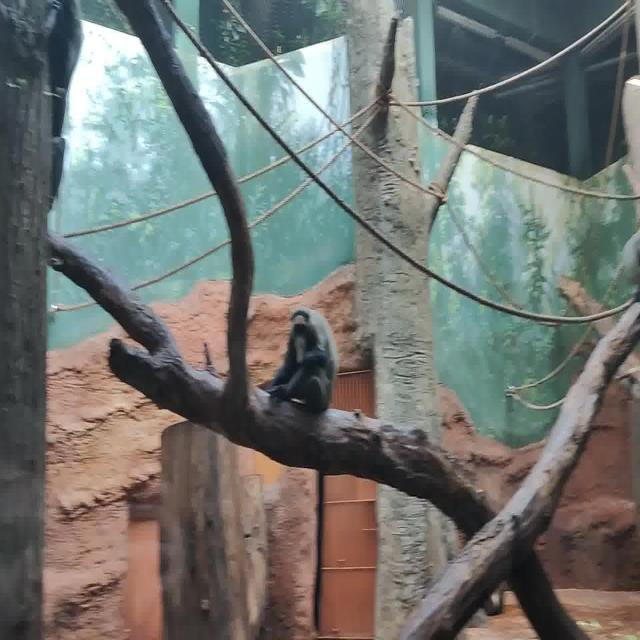monkey: (265, 308, 338, 412)
